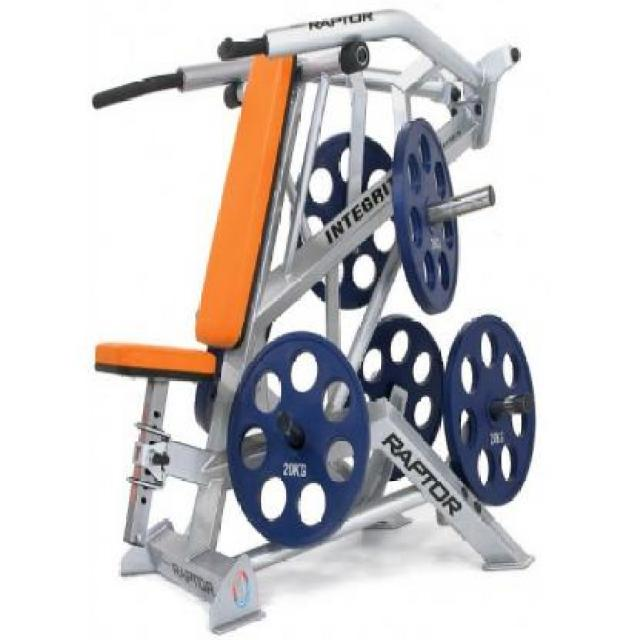shoulder press machine: (91, 6, 537, 629)
